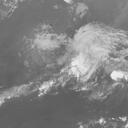cyclone: (64, 40, 100, 89)
